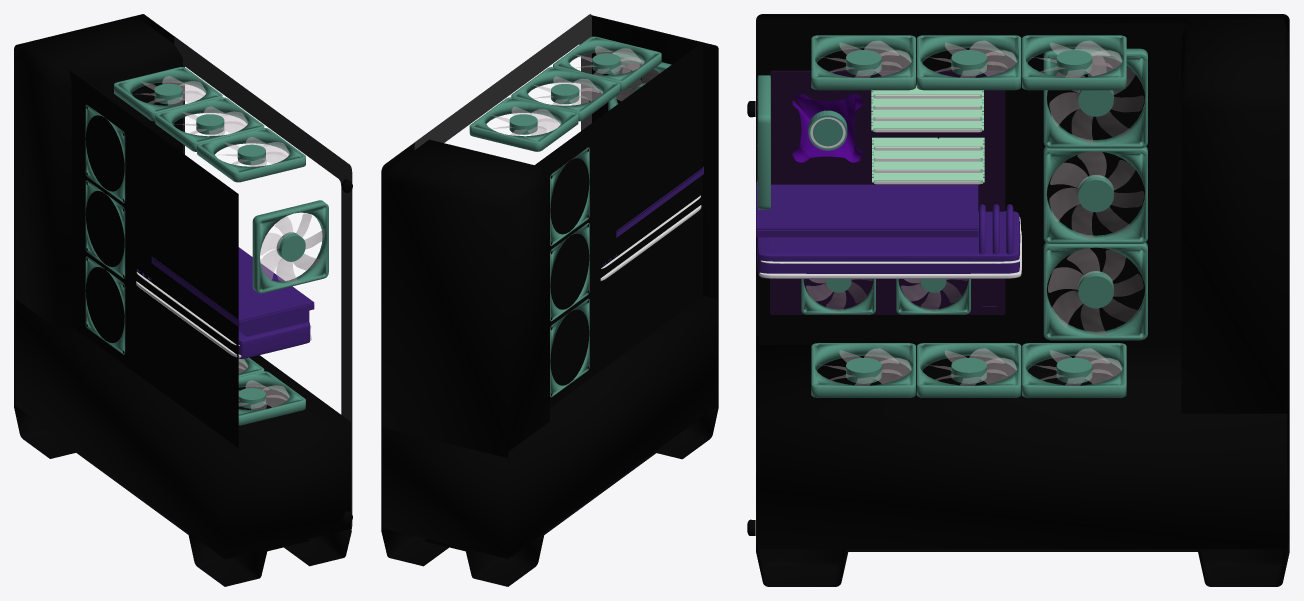
The model's file is UpgradedBeast.glb.
3 views of the same model, side by side, from view 1: azimuth 30°, elevation 25°; view 2: azimuth 150°, elevation 25°; view 3: azimuth 270°, elevation 25° (orthographic). The views are drawn at different scales.
Parts seen in each view (by area): view 1: Chassis.001, Panel.001, Cube.022, Cylinder.012, Cylinder.015, Cylinder.013, Cylinder.014, Cylinder.016, Blade.080, Cube.033, Cylinder.021, Cylinder.019 (+5 smaller); view 2: Chassis.001, Panel.001, Cylinder.013, Cylinder.015, Cylinder.014, Cylinder.019, Cube.033, Cylinder.021, Blade.098, Blade.085, Blade.092, Cube.022 (+2 smaller); view 3: Chassis.001, Cube.022, Cube.020, Cylinder.019, Cube.033, Cylinder.014, Cylinder.013, Cylinder.015, Cylinder.017, Cylinder.018, Cylinder.016, Cylinder.021 (+22 smaller).
Part boxes in pixels (x1,y1,x2,y2): Chassis.001: (14, 14, 352, 586); Panel.001: (174, 36, 352, 529); Cube.022: (137, 247, 314, 358); Cylinder.012: (252, 200, 328, 293); Cylinder.015: (197, 128, 305, 182); Cylinder.013: (114, 67, 222, 121); Cylinder.014: (155, 97, 264, 151); Cylinder.016: (238, 371, 305, 425); Blade.080: (260, 213, 325, 282); Cube.033: (85, 180, 125, 278); Cylinder.021: (85, 104, 125, 203); Cylinder.019: (85, 256, 125, 354); Chassis.001: (381, 15, 718, 586); Panel.001: (414, 14, 591, 149); Cylinder.013: (469, 97, 578, 151); Cylinder.015: (553, 36, 661, 90); Cylinder.014: (511, 67, 619, 121); Cylinder.019: (550, 298, 589, 397); Cube.033: (550, 223, 589, 321); Cylinder.021: (550, 147, 589, 245); Blade.098: (575, 46, 644, 74); Blade.085: (491, 107, 560, 135); Blade.092: (534, 76, 602, 105); Cube.022: (602, 166, 703, 265); Chassis.001: (747, 14, 1289, 586); Cube.022: (756, 182, 1020, 278); Cube.020: (770, 70, 1005, 314); Cylinder.019: (1043, 242, 1147, 340); Cube.033: (1043, 146, 1147, 243); Cylinder.014: (916, 35, 1021, 90); Cylinder.013: (1022, 35, 1126, 90); Cylinder.015: (811, 35, 915, 90); Cylinder.017: (916, 343, 1021, 397); Cylinder.018: (1022, 343, 1126, 397); Cylinder.016: (811, 343, 915, 397); Cylinder.021: (1043, 48, 1147, 148).
Bounding box in the file's own units: 0.7011 × 2.08 × 2.05.
